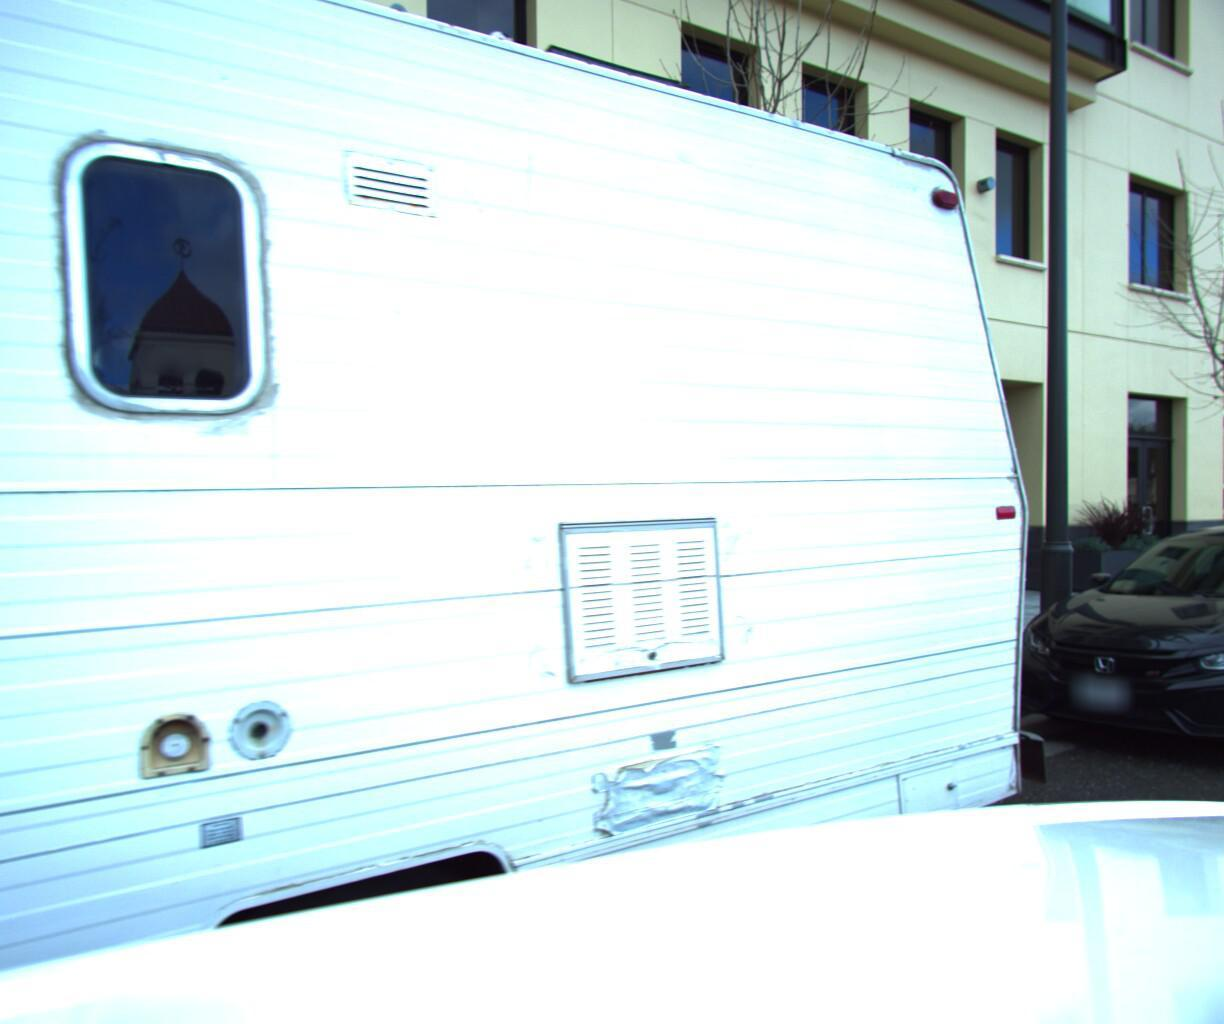car: (975, 500, 1224, 810), (1175, 466, 1224, 573)
